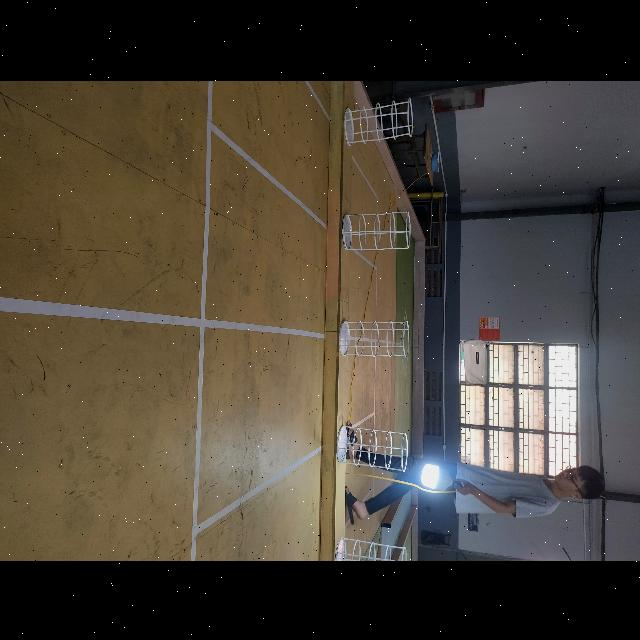S: (342, 91, 414, 146), (334, 423, 409, 474), (339, 315, 413, 360), (339, 208, 410, 254), (335, 534, 410, 560)
